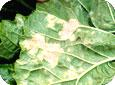Bok-Choy-Diseased: (22, 12, 106, 81)
